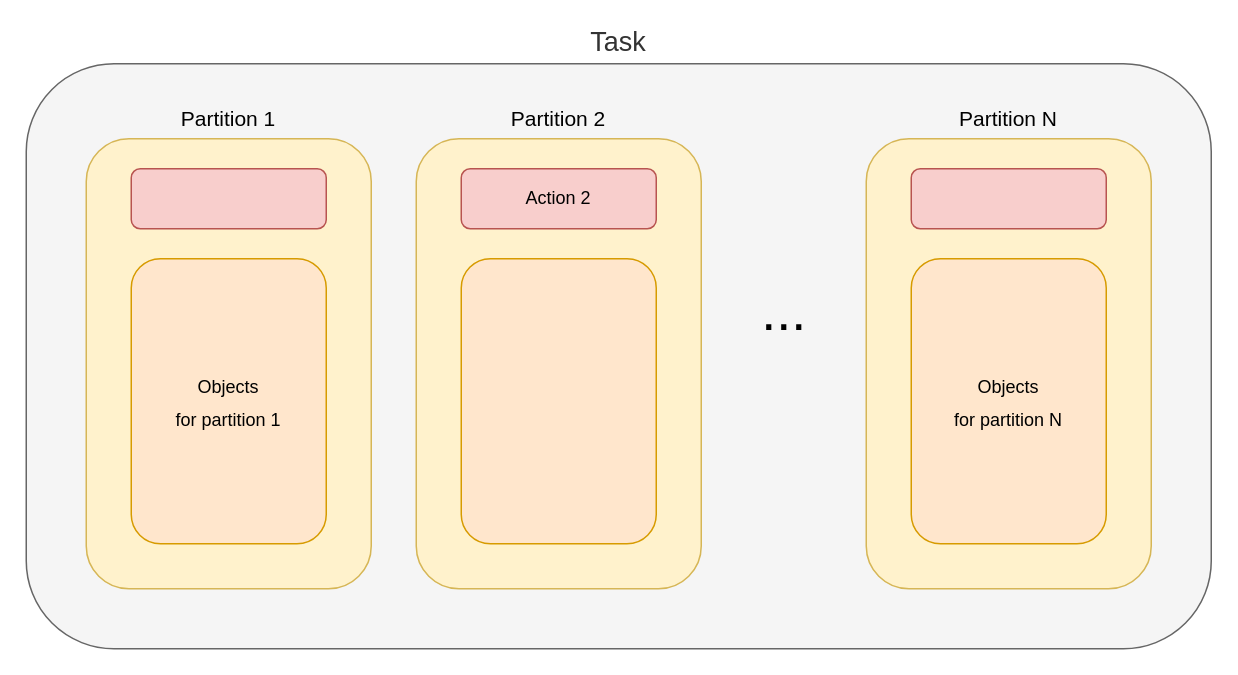
Some shapes in this 1238 by 675 pixel diagram are drawn without their labels. The box of each missing label's shape, as (x1, y1, x2, y2) in pixels:
Action 1: (130, 167, 326, 229)
Action N: (910, 167, 1106, 229)
Objects for partition 2: (460, 257, 656, 544)
